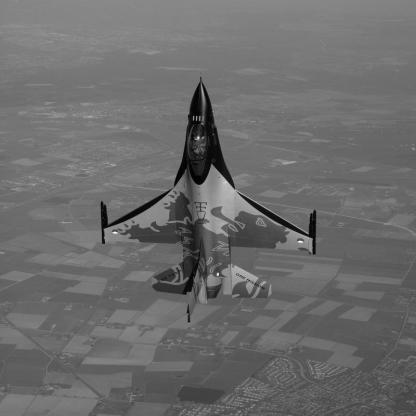F16: (101, 73, 318, 324)
